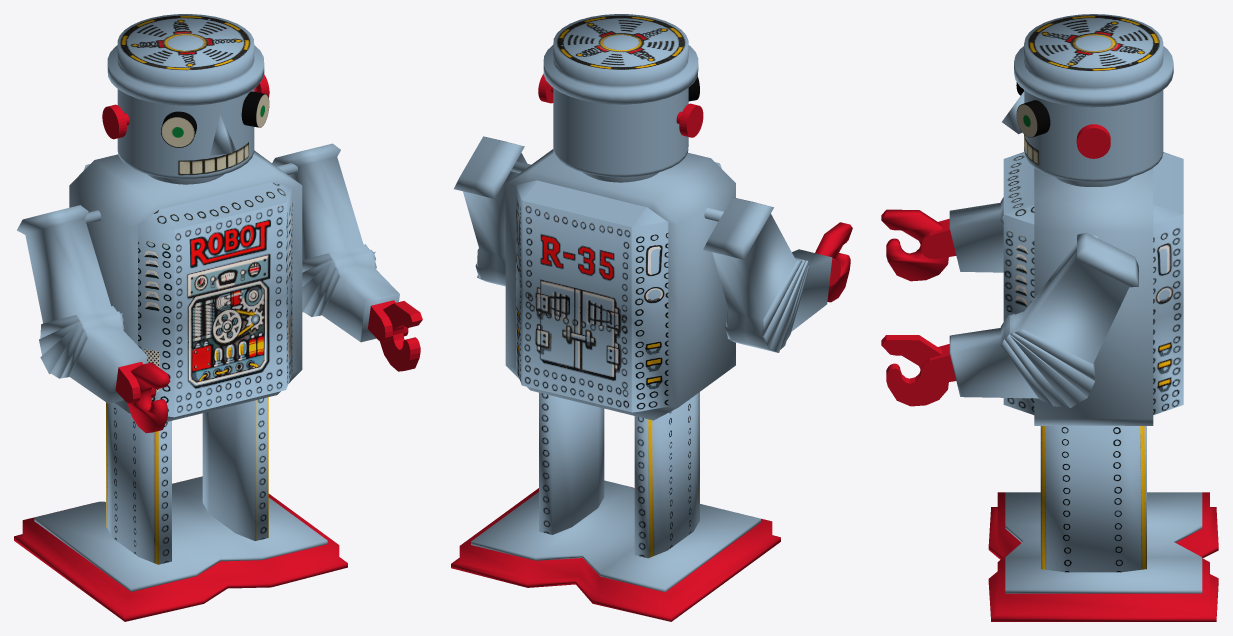
Rendered from robot texture bake and scale no CmLight-anim-noBump.gltf.
3 views of the same model, side by side, from view 1: azimuth 30°, elevation 25°; view 2: azimuth 150°, elevation 25°; view 3: azimuth 270°, elevation 25° (orthographic). The views are drawn at different scales.
Parts seen in each view (by area): view 1: Body Front, Head Cyl, Cube.002, Arm R. MIR.001, Feet.Top Metal, Arm R. MIR, Feet, Leg R.002, Leg R.001, Hand, Hand.001, Eye L (+5 smaller); view 2: Body Back, Head Cyl, Cube.002, Feet.Top Metal, Arm R. MIR.001, Feet, Leg R.002, Leg R.001, Arm R. MIR, Hand.001, EarL; view 3: Head Cyl, Cube.002, Arm R. MIR, Leg R.001, Feet.Top Metal, Feet, Body Back, Body Front, Arm R. MIR.001, Hand.001, Hand, Eye R (+3 smaller).
Part boxes in pixels (left/top/right/bottom): Body Front: left=138, top=182, right=292, bottom=417; Head Cyl: left=107, top=14, right=264, bottom=179; Cube.002: left=69, top=150, right=302, bottom=421; Arm R. MIR.001: left=17, top=205, right=147, bottom=403; Feet.Top Metal: left=34, top=476, right=327, bottom=591; Arm R. MIR: left=272, top=143, right=399, bottom=342; Feet: left=14, top=477, right=347, bottom=621; Leg R.002: left=106, top=402, right=171, bottom=564; Leg R.001: left=202, top=397, right=268, bottom=540; Hand: left=379, top=301, right=422, bottom=371; Hand.001: left=127, top=362, right=170, bottom=433; Eye L: left=161, top=111, right=196, bottom=147; Body Back: left=516, top=180, right=668, bottom=412; Head Cyl: left=543, top=14, right=698, bottom=177; Cube.002: left=505, top=149, right=735, bottom=420; Feet.Top Metal: left=471, top=480, right=760, bottom=592; Arm R. MIR.001: left=703, top=197, right=832, bottom=352; Feet: left=451, top=487, right=780, bottom=621; Leg R.002: left=634, top=392, right=699, bottom=558; Leg R.001: left=539, top=392, right=604, bottom=534; Arm R. MIR: left=454, top=136, right=527, bottom=286; Hand.001: left=815, top=222, right=852, bottom=302; EarL: left=676, top=103, right=703, bottom=137; Head Cyl: left=1014, top=14, right=1173, bottom=181; Cube.002: left=1034, top=168, right=1153, bottom=425; Arm R. MIR: left=949, top=232, right=1138, bottom=407; Leg R.001: left=1040, top=425, right=1146, bottom=572; Feet.Top Metal: left=1005, top=492, right=1202, bottom=593; Feet: left=988, top=492, right=1218, bottom=621; Body Back: left=1153, top=152, right=1183, bottom=414; Body Front: left=1003, top=152, right=1034, bottom=414; Arm R. MIR.001: left=949, top=197, right=1003, bottom=272; Hand.001: left=881, top=209, right=948, bottom=281; Hand: left=881, top=335, right=948, bottom=406; Eye R: left=1016, top=100, right=1050, bottom=137.
Bounding box in the file's own units: 1.19 × 1.97 × 1.15.
Materials: 7 (5 with a texture image).
